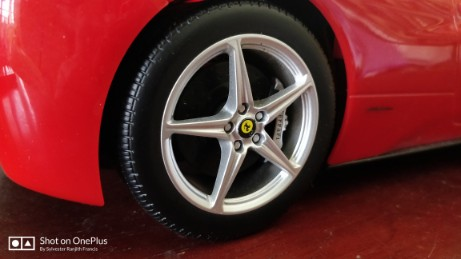aligned_wheel: (101, 2, 340, 243)
